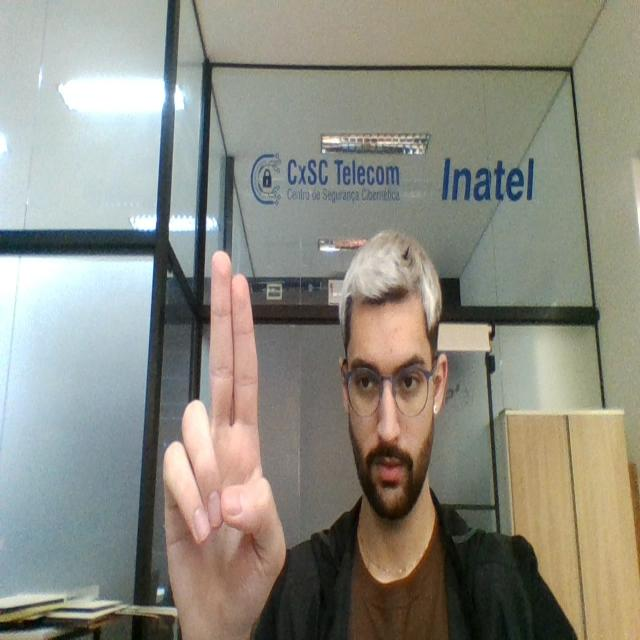U: (158, 240, 290, 631)
